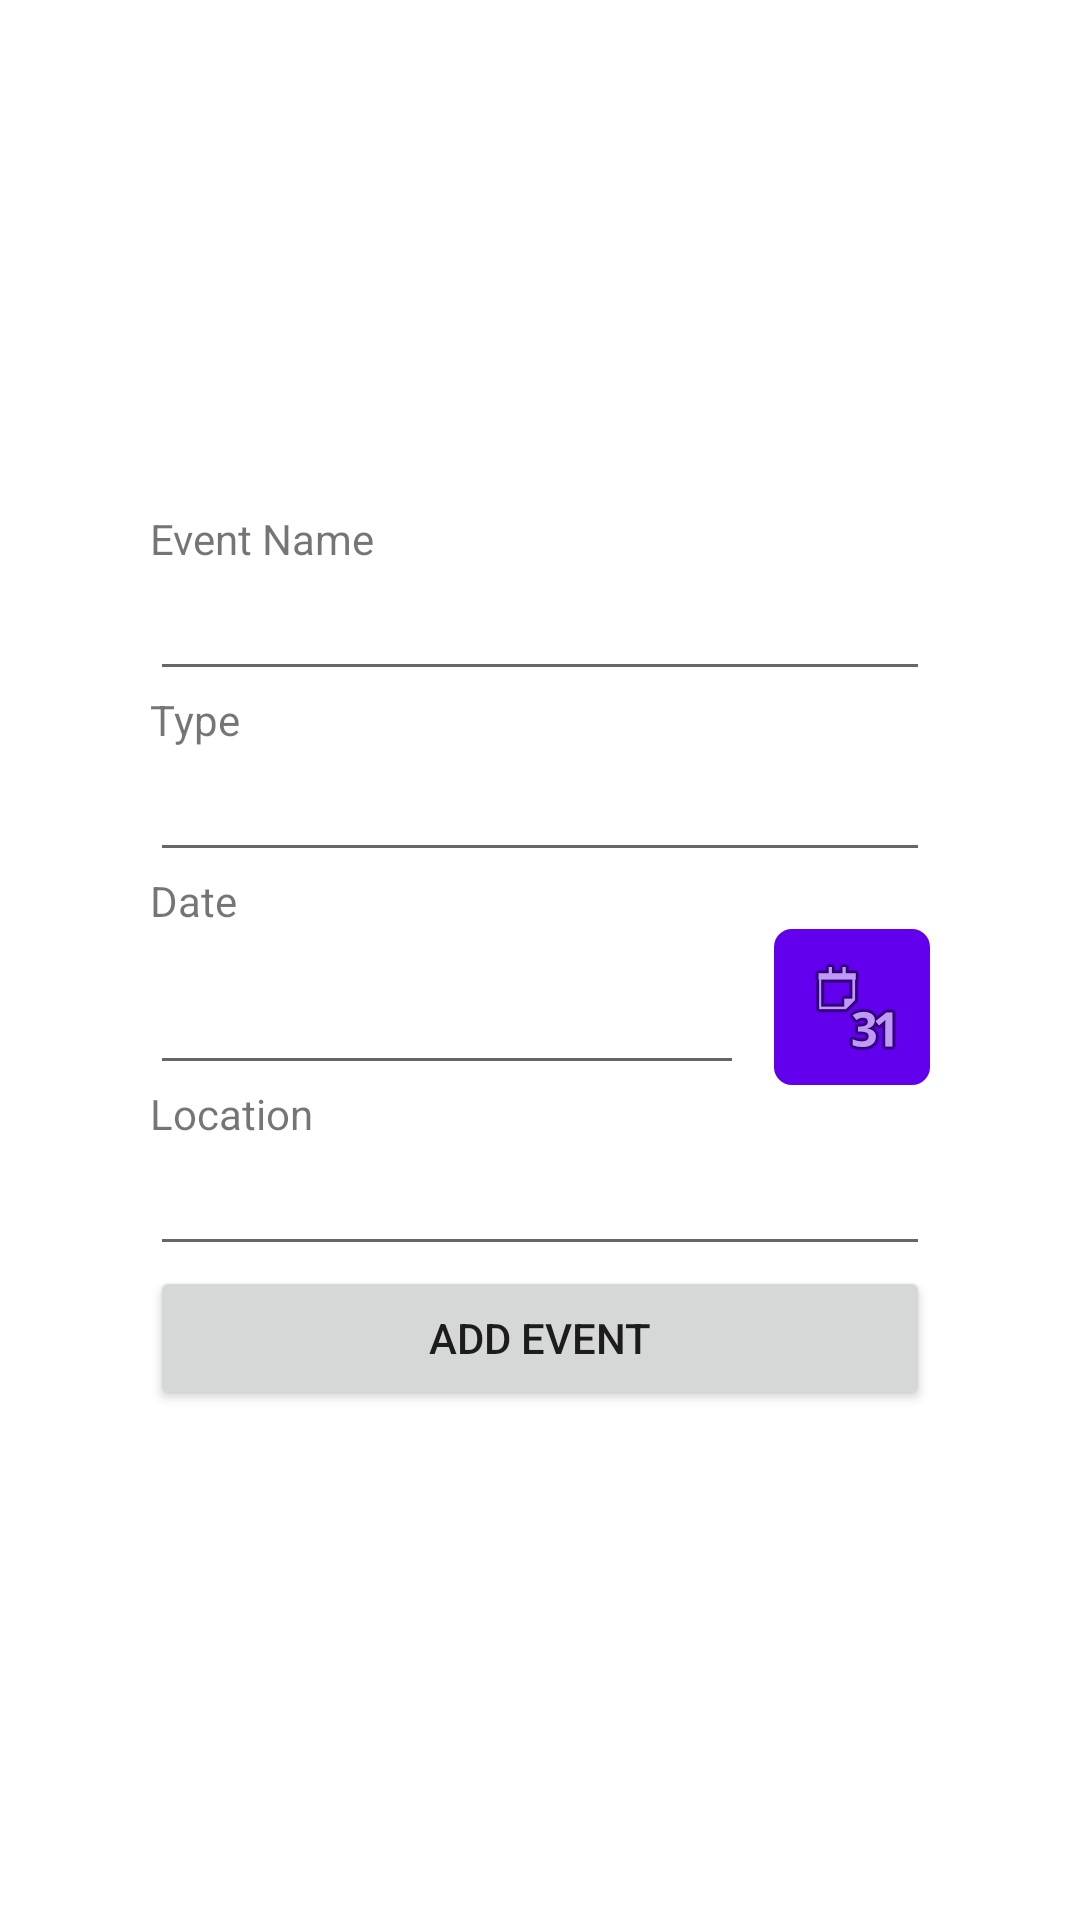

Icons on this 1080 × 1920 Android screen, each with the point to tap as (x=x, y=y):
month: (x=852, y=1007)
